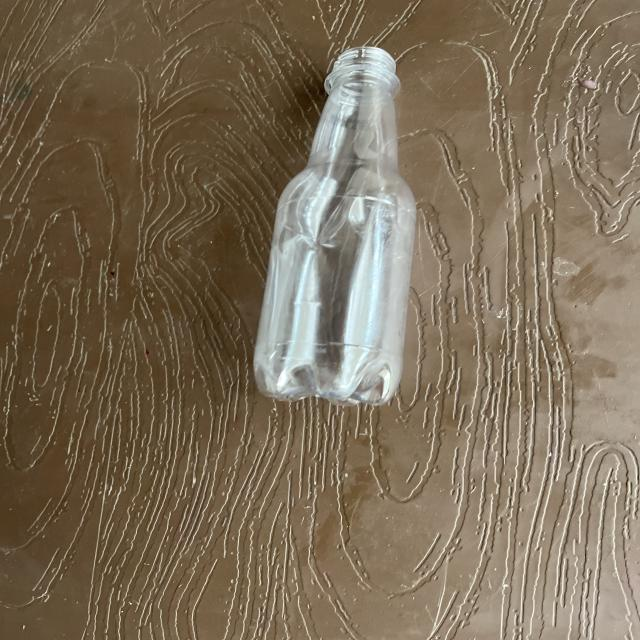PET_ClearBottle: (239, 48, 419, 415)
